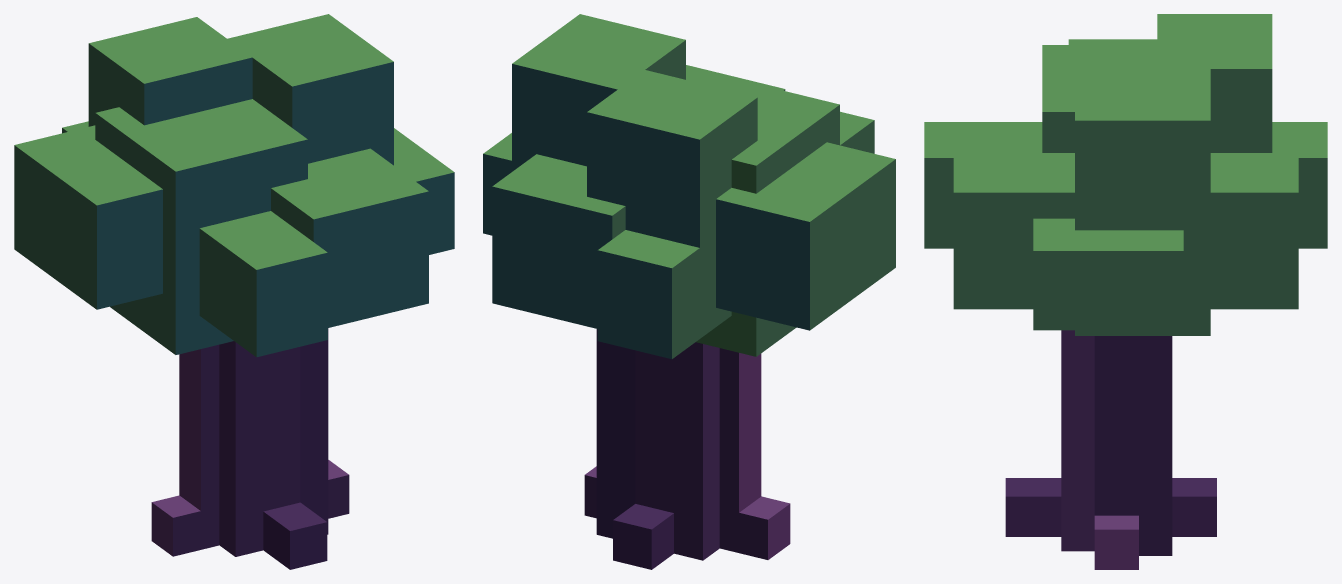
The model's file is Tree_04.fbx.
The picture shows the model from 3 angles, left to right: view 1: azimuth 30°, elevation 25°; view 2: azimuth 150°, elevation 25°; view 3: azimuth 270°, elevation 25°; orthographic projection. The views are drawn at different scales.
Parts seen in each view (by area): view 1: GR_Tree_night; view 2: GR_Tree_night; view 3: GR_Tree_night.
Boxes of the visible parts, bbox=[...] form: GR_Tree_night: bbox=[14, 14, 454, 569]; GR_Tree_night: bbox=[483, 14, 895, 569]; GR_Tree_night: bbox=[924, 14, 1327, 569].
Bounding box in the file's own units: 367 × 464 × 363.
